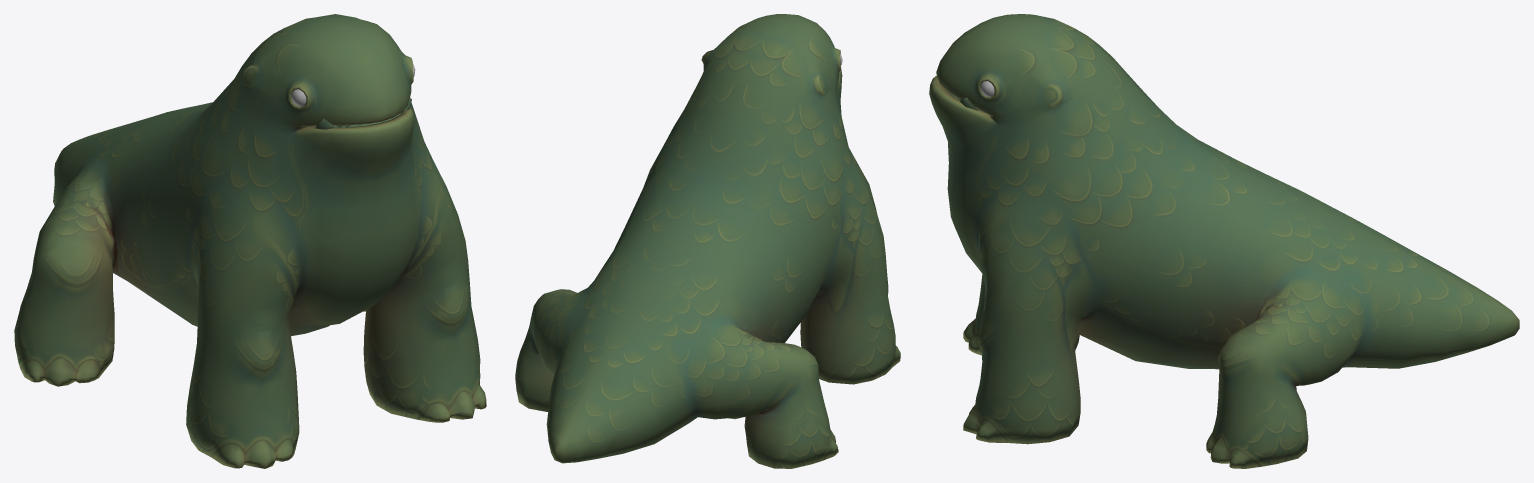
The model's file is MODEL + COLOUR Charging creature Temp.fbx.
3 renders of one model, left to right at view 1: azimuth 30°, elevation 25°; view 2: azimuth 150°, elevation 25°; view 3: azimuth 270°, elevation 25°, orthographic. The views are drawn at different scales.
Parts seen in each view (by area): view 1: Body1; view 2: Body1; view 3: Body1.
Part boxes in pixels (<box>): Body1: <box>14,14,486,468</box>; Body1: <box>515,14,900,468</box>; Body1: <box>929,14,1519,468</box>.
Bounding box in the file's own units: 1.31 × 1.3 × 1.92.
